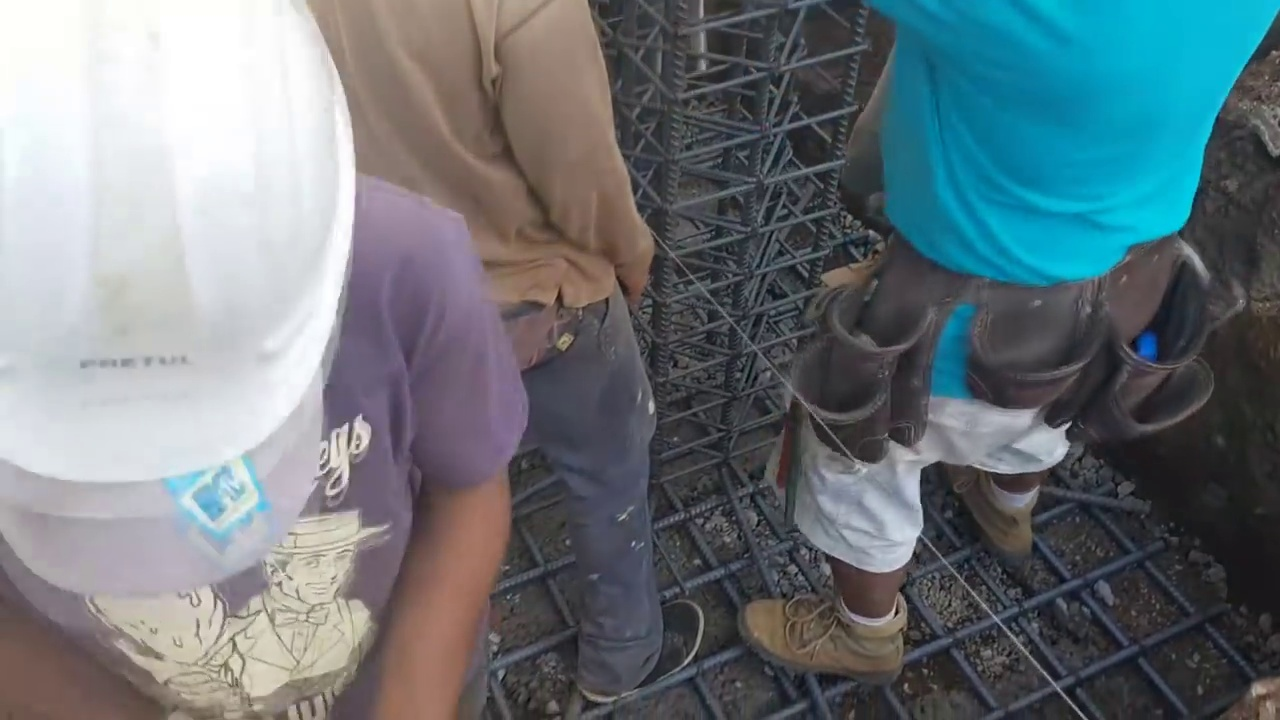helmet: (0, 3, 348, 490)
helmet-on: (0, 2, 355, 633)
person: (0, 0, 525, 720), (739, 0, 1280, 683), (345, 0, 695, 694)
